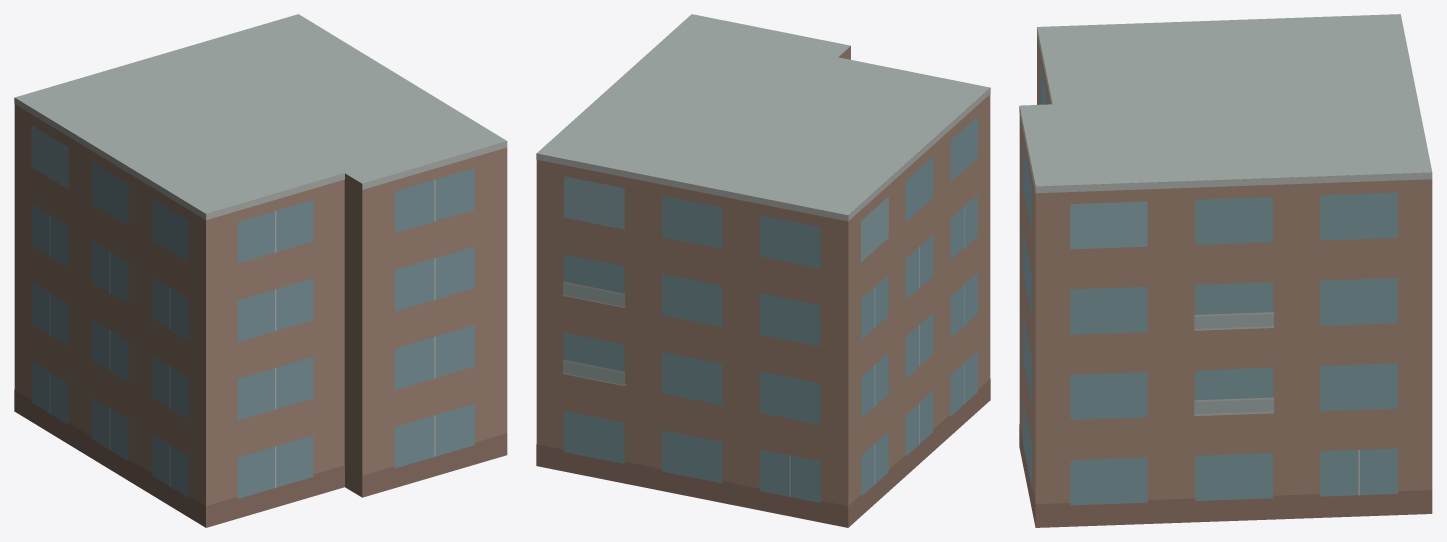
File: residential-d75fcbf1-eb7a-4cb9-afb4-36f99e36dfbe.glb
The picture shows the model from 3 angles, left to right: view 1: azimuth 30°, elevation 25°; view 2: azimuth 150°, elevation 25°; view 3: azimuth 270°, elevation 25°; orthographic projection. The views are drawn at different scales.
Visible parts, largest first — view 1: residential-d75fcbf1-eb7a-4cb9-afb4-36f99e36dfbe.tmp; view 2: residential-d75fcbf1-eb7a-4cb9-afb4-36f99e36dfbe.tmp; view 3: residential-d75fcbf1-eb7a-4cb9-afb4-36f99e36dfbe.tmp.
Boxes of the visible parts, bbox=[...] form: residential-d75fcbf1-eb7a-4cb9-afb4-36f99e36dfbe.tmp: bbox=[14, 14, 507, 527]; residential-d75fcbf1-eb7a-4cb9-afb4-36f99e36dfbe.tmp: bbox=[536, 14, 990, 527]; residential-d75fcbf1-eb7a-4cb9-afb4-36f99e36dfbe.tmp: bbox=[1019, 14, 1432, 527].
Bounding box in the file's own units: 13.22 × 12.2 × 13.38.
